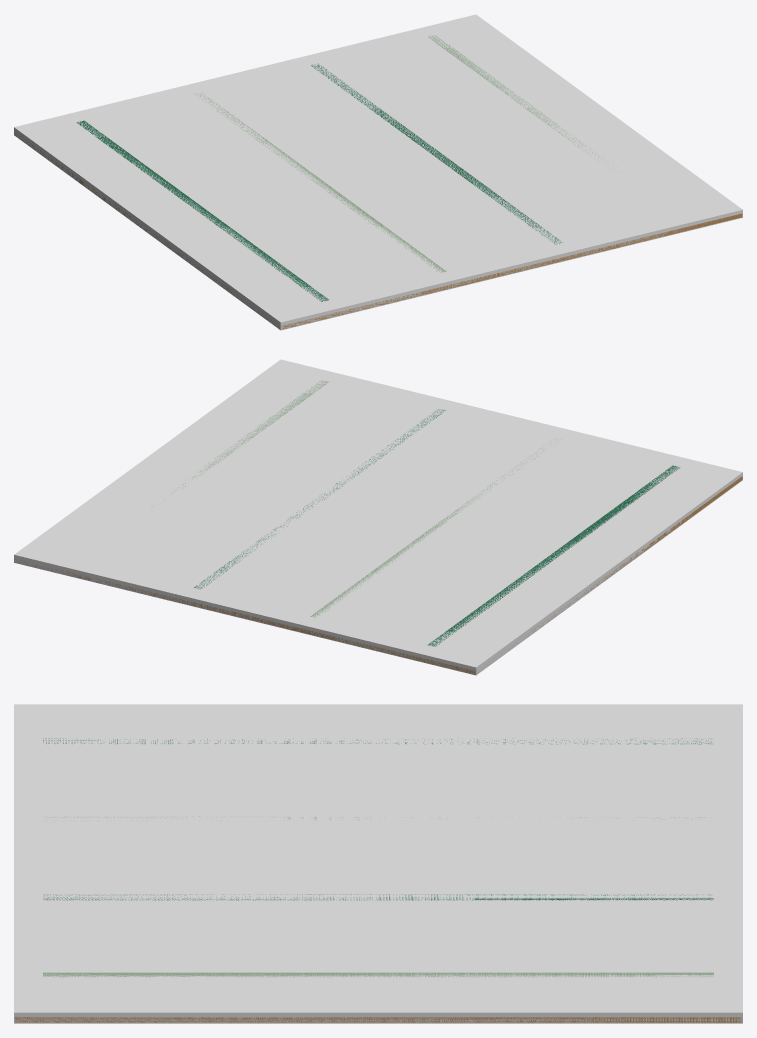
File: flooring_retail.glb
3 renders of one model, top to bottom at view 1: azimuth 30°, elevation 25°; view 2: azimuth 150°, elevation 25°; view 3: azimuth 270°, elevation 25°, orthographic. The views are drawn at different scales.
Visible parts, largest first — view 1: COL_flooring, MESH_FinishBase, MESH_FinishJoint, MESH_FinishJoint.002, MESH_FinishJoint.001, MESH_FinishJoint.003; view 2: COL_flooring, MESH_FinishBase, MESH_FinishJoint, MESH_FinishJoint.001, MESH_FinishJoint.003, MESH_FinishJoint.002; view 3: COL_flooring, MESH_FinishBase, MESH_FinishJoint.003, MESH_FinishJoint.002.
Boxes of the visible parts, left/top/right/bottom form: COL_flooring: left=14, top=14, right=742, bottom=330; MESH_FinishBase: left=15, top=133, right=742, bottom=329; MESH_FinishJoint: left=76, top=120, right=328, bottom=301; MESH_FinishJoint.002: left=311, top=63, right=561, bottom=244; MESH_FinishJoint.001: left=194, top=92, right=446, bottom=272; MESH_FinishJoint.003: left=428, top=35, right=619, bottom=170; COL_flooring: left=14, top=359, right=742, bottom=675; MESH_FinishBase: left=17, top=476, right=742, bottom=674; MESH_FinishJoint: left=427, top=465, right=680, bottom=646; MESH_FinishJoint.001: left=310, top=438, right=557, bottom=617; MESH_FinishJoint.003: left=164, top=380, right=329, bottom=500; MESH_FinishJoint.002: left=194, top=409, right=445, bottom=589; COL_flooring: left=14, top=704, right=742, bottom=1023; MESH_FinishBase: left=15, top=1017, right=741, bottom=1022; MESH_FinishJoint.003: left=43, top=972, right=713, bottom=978; MESH_FinishJoint.002: left=43, top=894, right=713, bottom=900.
Bounding box in the file's own units: 2.4 × 0.04 × 2.4.
